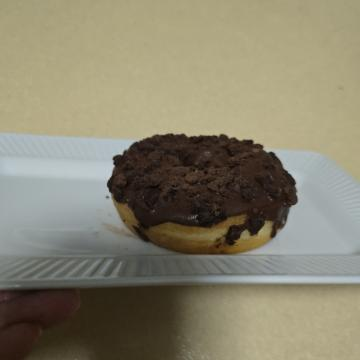doughnut: (125, 56, 268, 271)
